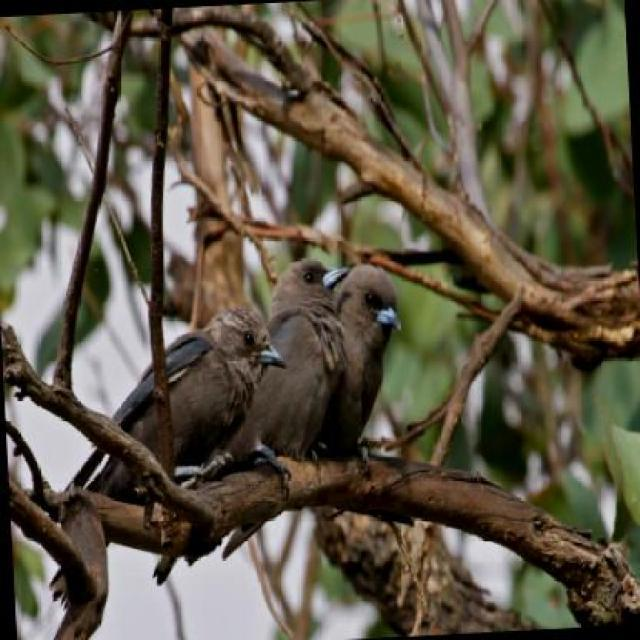Bird: (131, 289, 273, 523), (274, 249, 345, 465), (347, 256, 406, 465)
